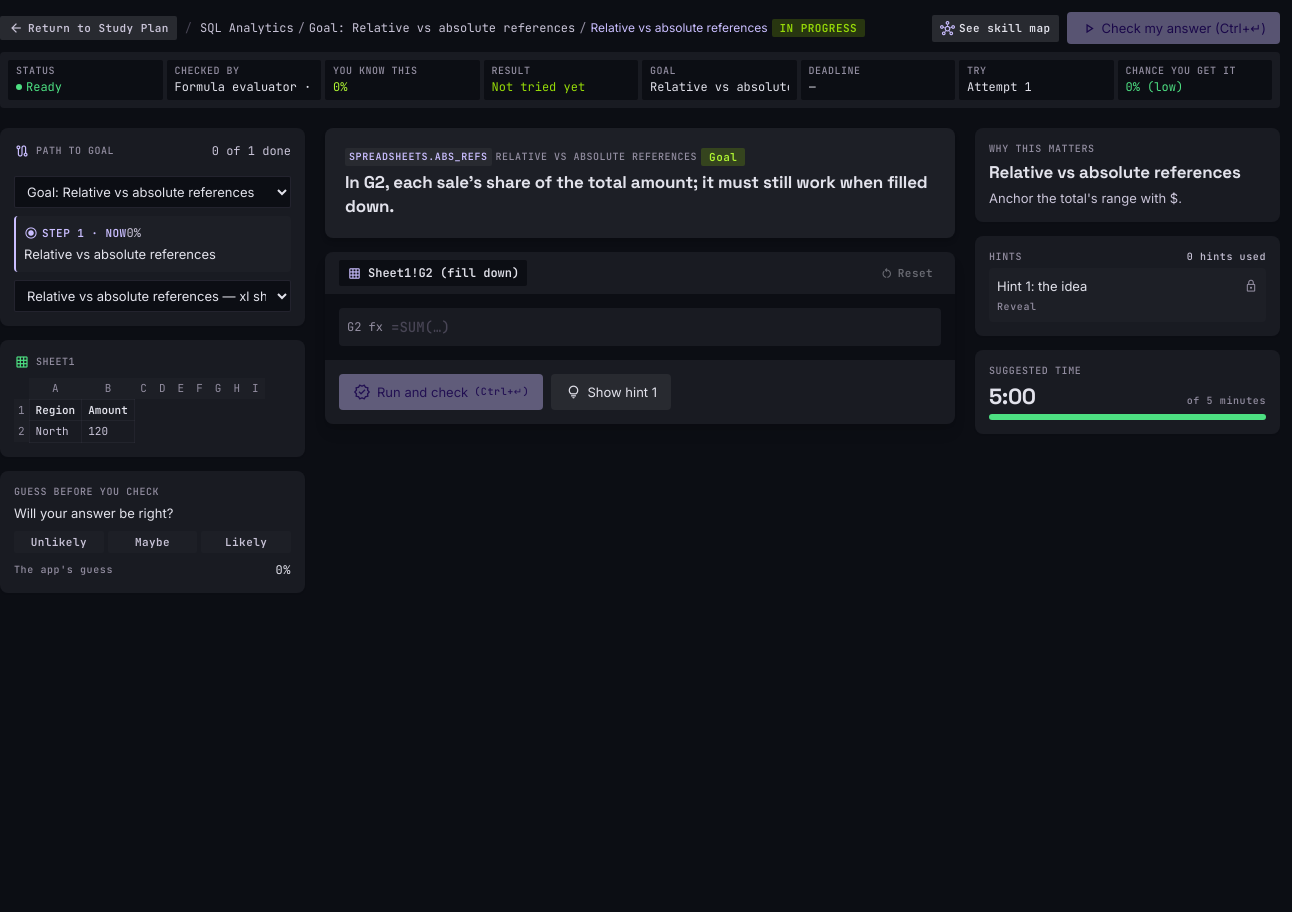
Test: practice lab beyond SQL › an Excel task shows the sheet and a formula bar, and sends the formula
The width and height of the screenshot is (1292, 912).
Expected: the text "Sheet1" is shown, [36,355,75,369]
Type "=E2/SUM(E2:E11)" into the field named "Formula for G2". click: [662, 327]
box: [391,316,933,338]
Then press Enter
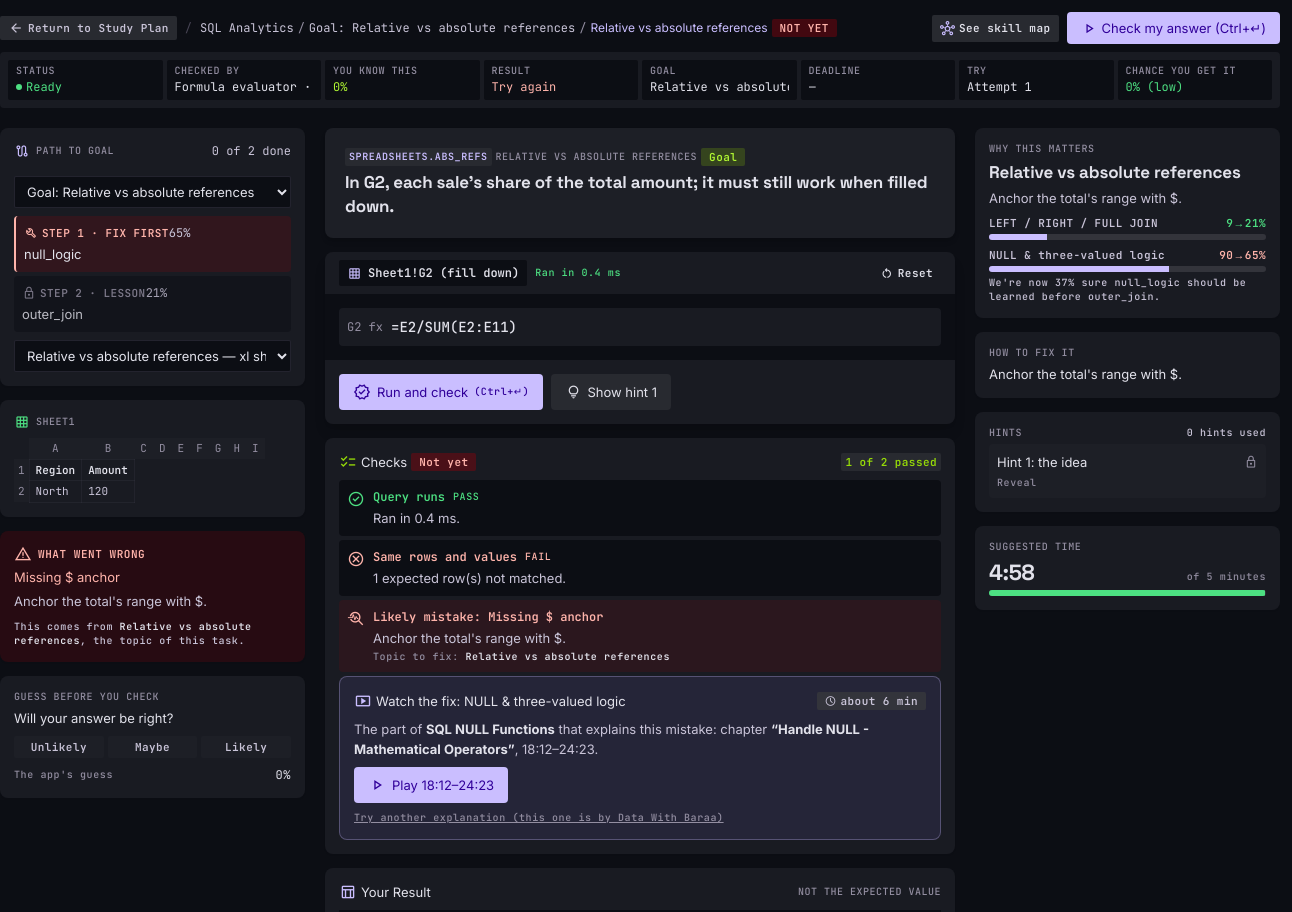
Expected: the text "Missing $ anchor" is shown, [14,568,120,584]
